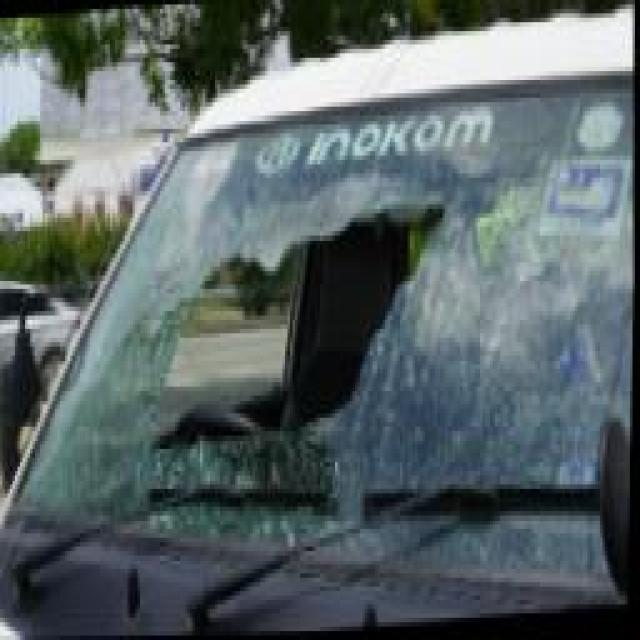Windshield: (68, 120, 633, 620)
